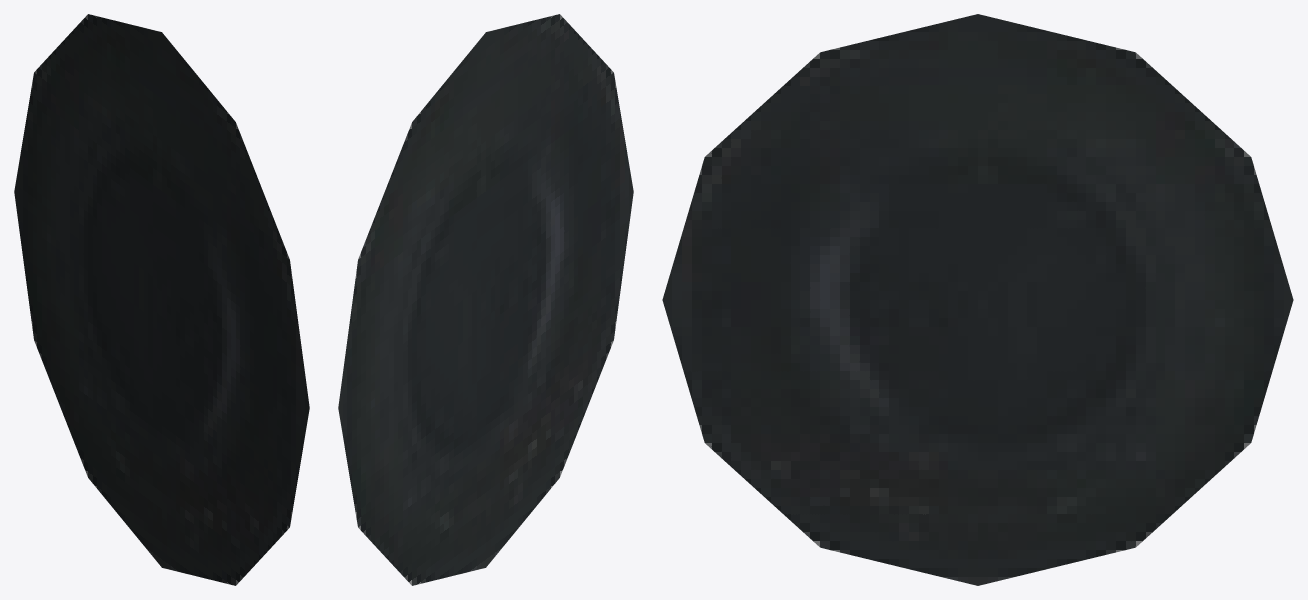
The model's file is RubbishBin_wheel.fbx.
The picture shows the model from 3 angles, left to right: view 1: azimuth 30°, elevation 25°; view 2: azimuth 150°, elevation 25°; view 3: azimuth 270°, elevation 25°; orthographic projection. The views are drawn at different scales.
Visible parts, largest first — view 1: BinWheel; view 2: BinWheel; view 3: BinWheel.
Boxes of the visible parts, bbox=[...] form: BinWheel: bbox=[14, 14, 309, 585]; BinWheel: bbox=[338, 14, 633, 585]; BinWheel: bbox=[662, 14, 1293, 585].
Size of the model in its own units: 2.66e-15 by 0.3034 by 0.3034.
